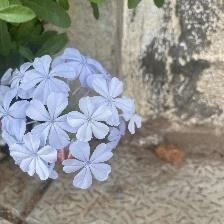chitrak: (65, 140, 116, 191), (89, 75, 140, 125), (29, 95, 76, 146), (10, 134, 61, 180), (23, 56, 72, 98), (70, 99, 115, 143), (59, 46, 108, 82)
